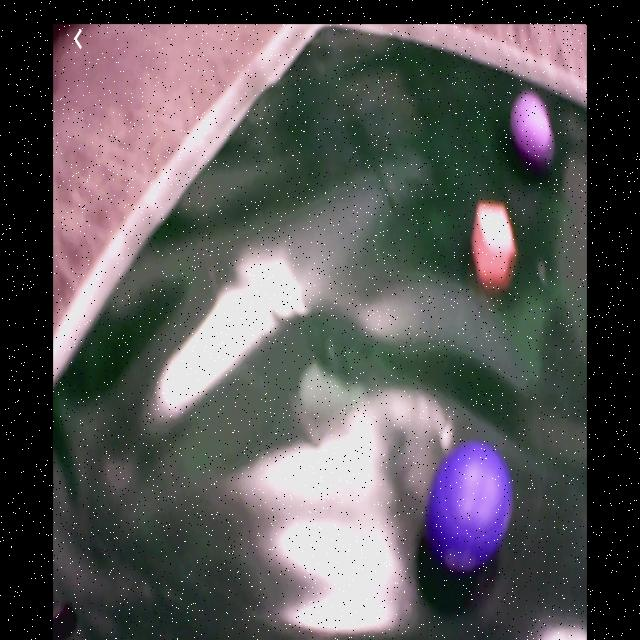ball: (428, 444, 511, 566), (511, 92, 553, 163)
